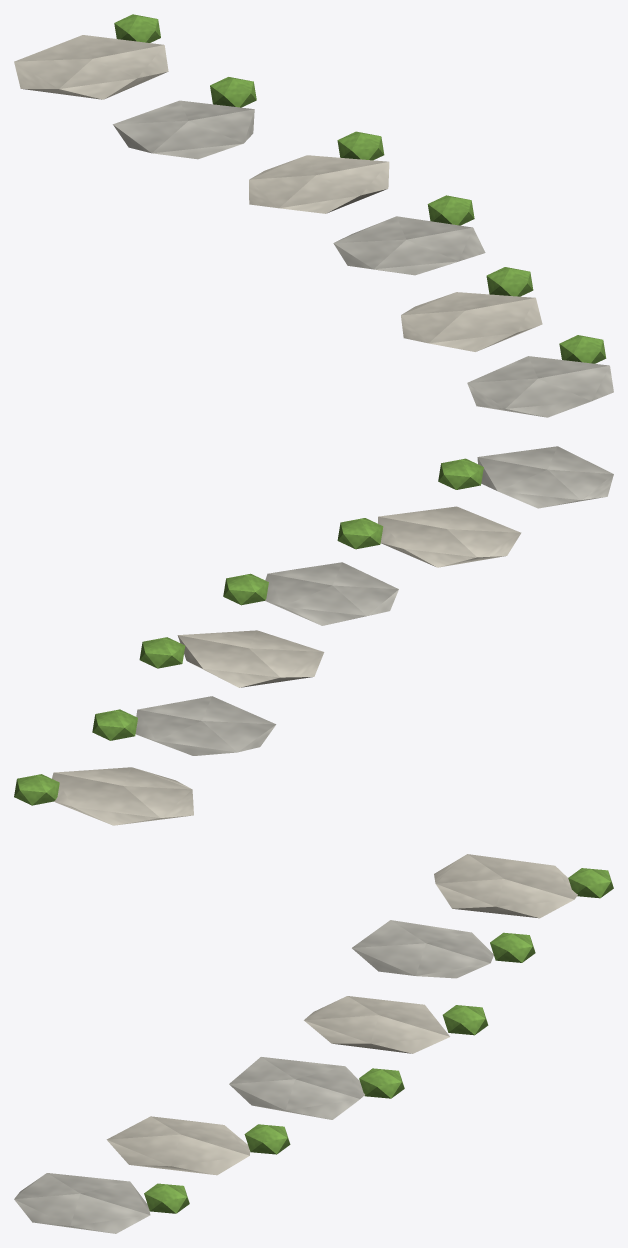
File: walk_stepping_stones_01.glb
3 views of the same model, one above another, from view 1: azimuth 30°, elevation 25°; view 2: azimuth 150°, elevation 25°; view 3: azimuth 330°, elevation 25° (orthographic). The views are drawn at different scales.
Parts seen in each view (by area): view 1: walk_stepping_stones_01; view 2: walk_stepping_stones_01; view 3: walk_stepping_stones_01.
Boxes of the visible parts, x1,y1,x2,y2 form: walk_stepping_stones_01: (14, 14, 613, 417); walk_stepping_stones_01: (14, 446, 613, 825); walk_stepping_stones_01: (14, 854, 613, 1233).
Size of the model in its own units: 1.1 by 0.144 by 4.59.
Materials: 1 (1 with a texture image).
